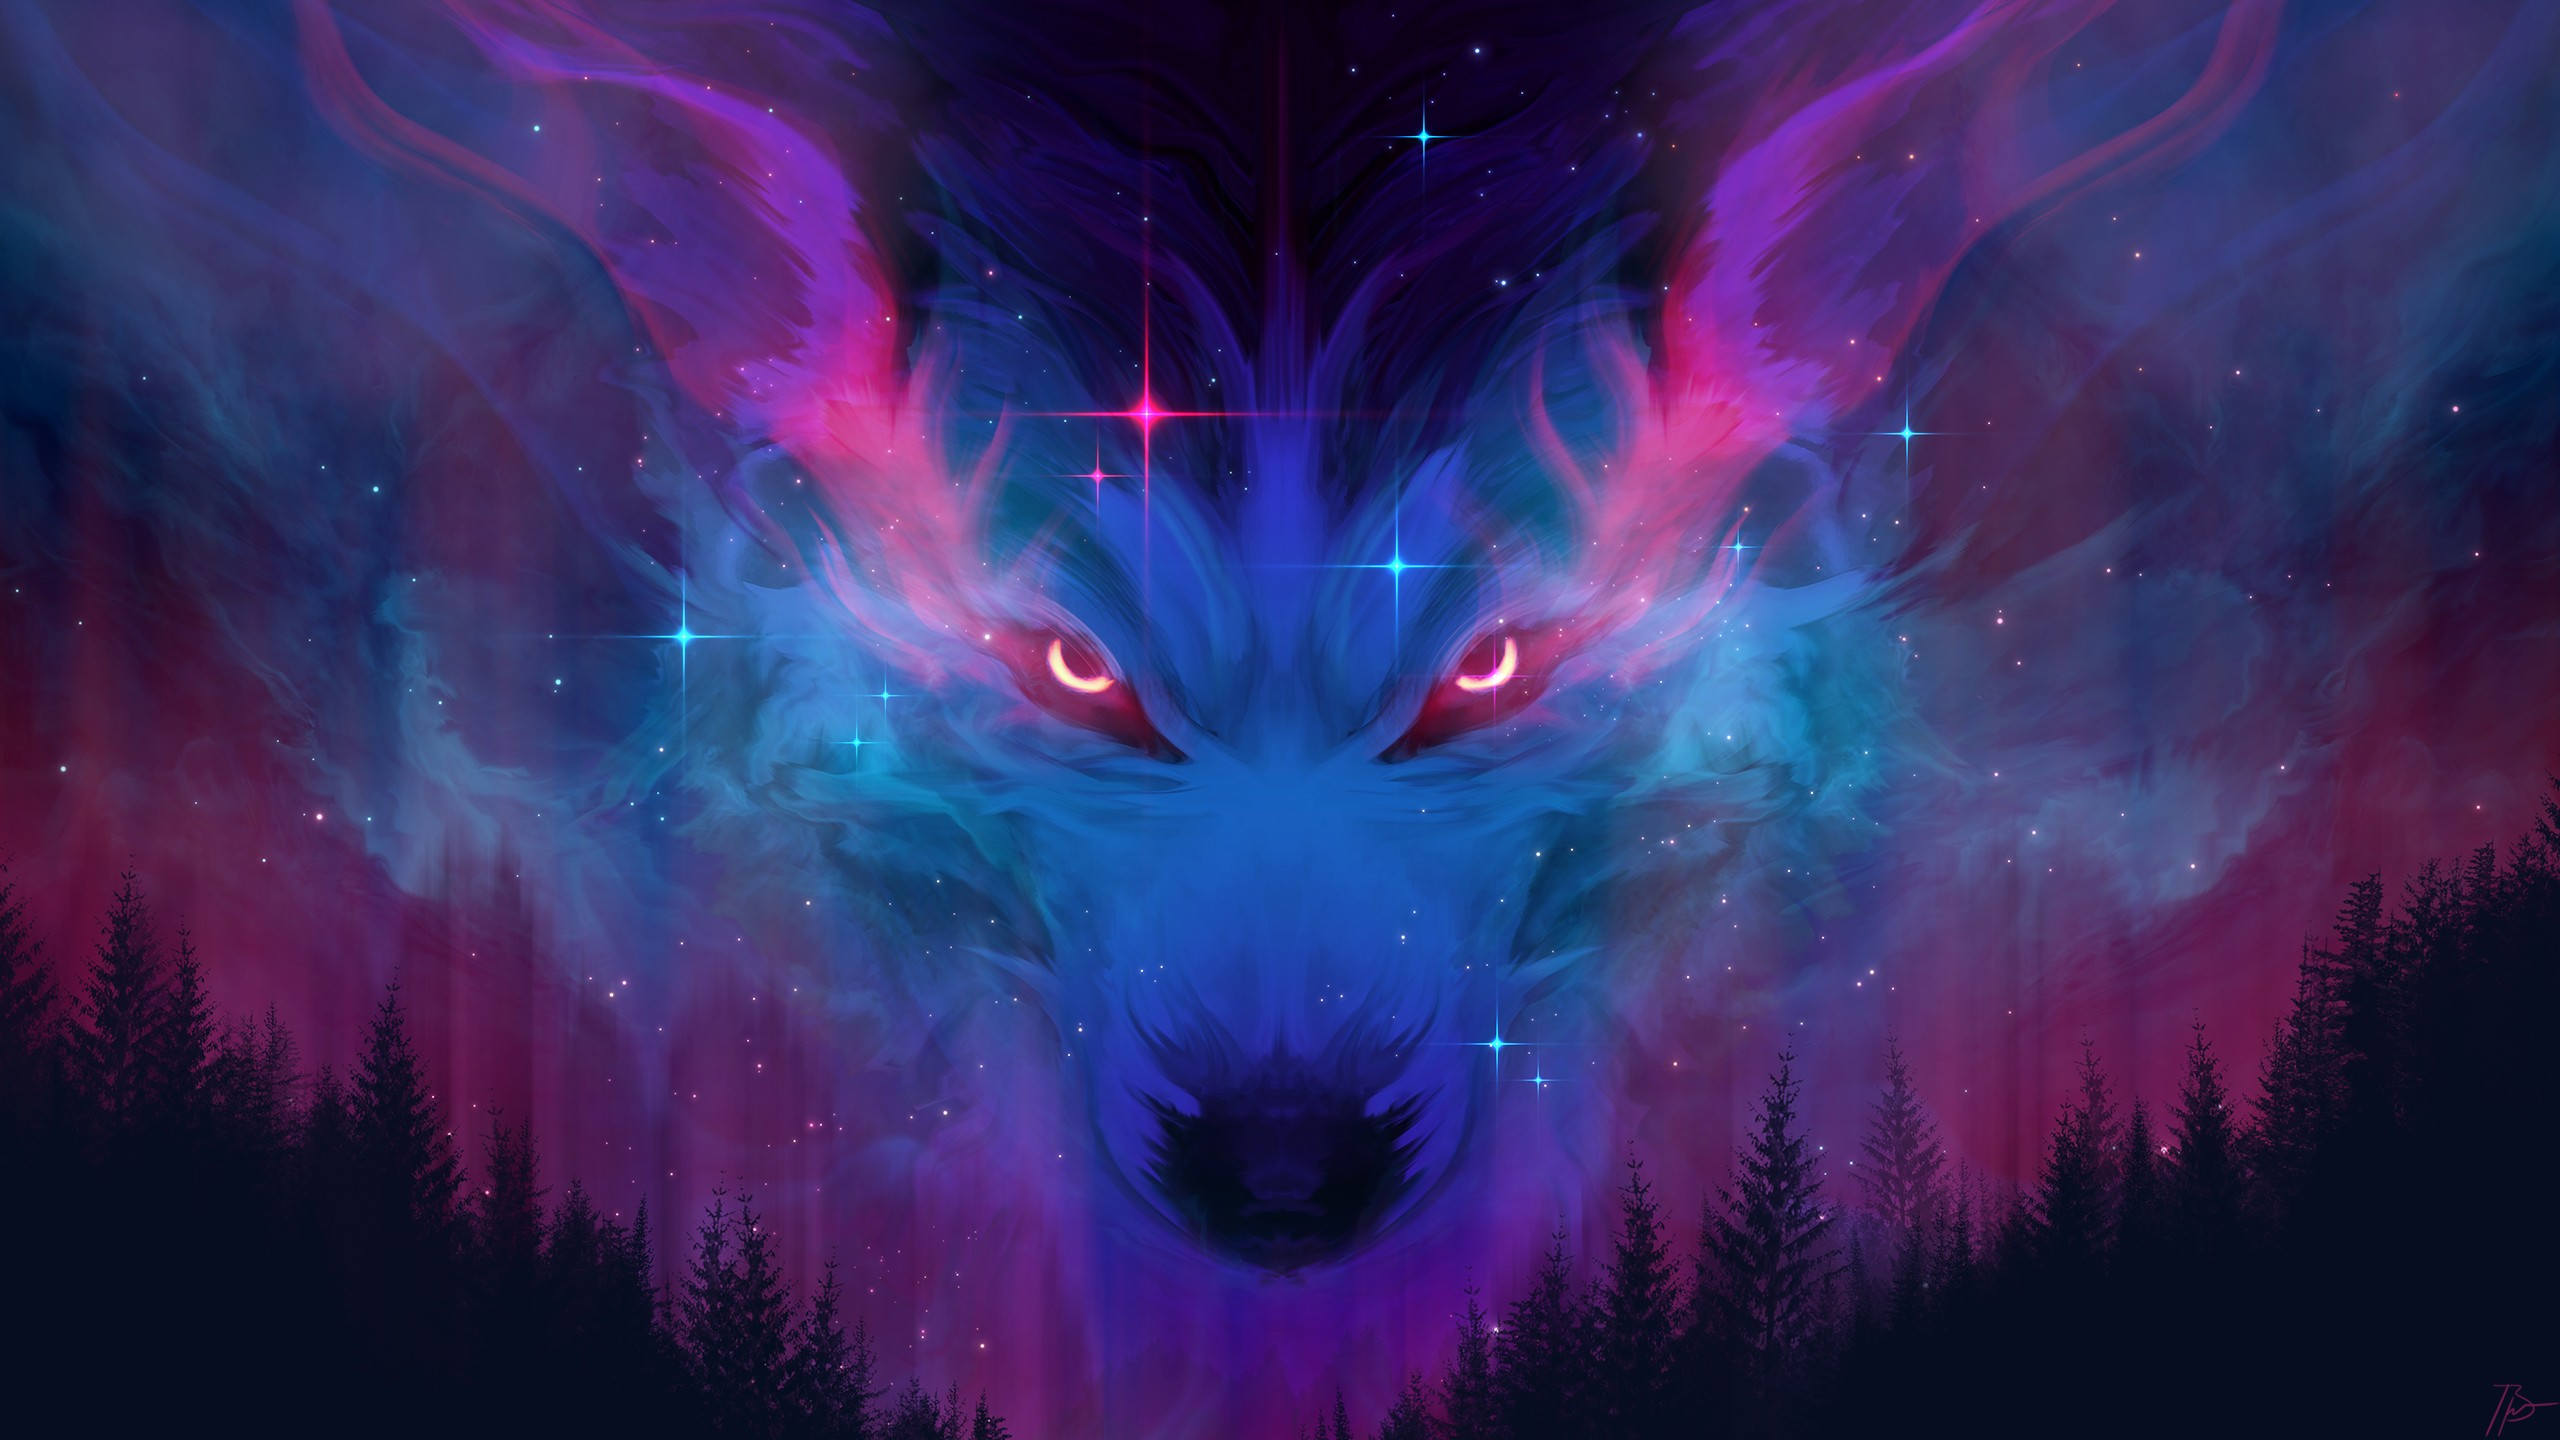Lobo: (360, 60, 2157, 1276)
